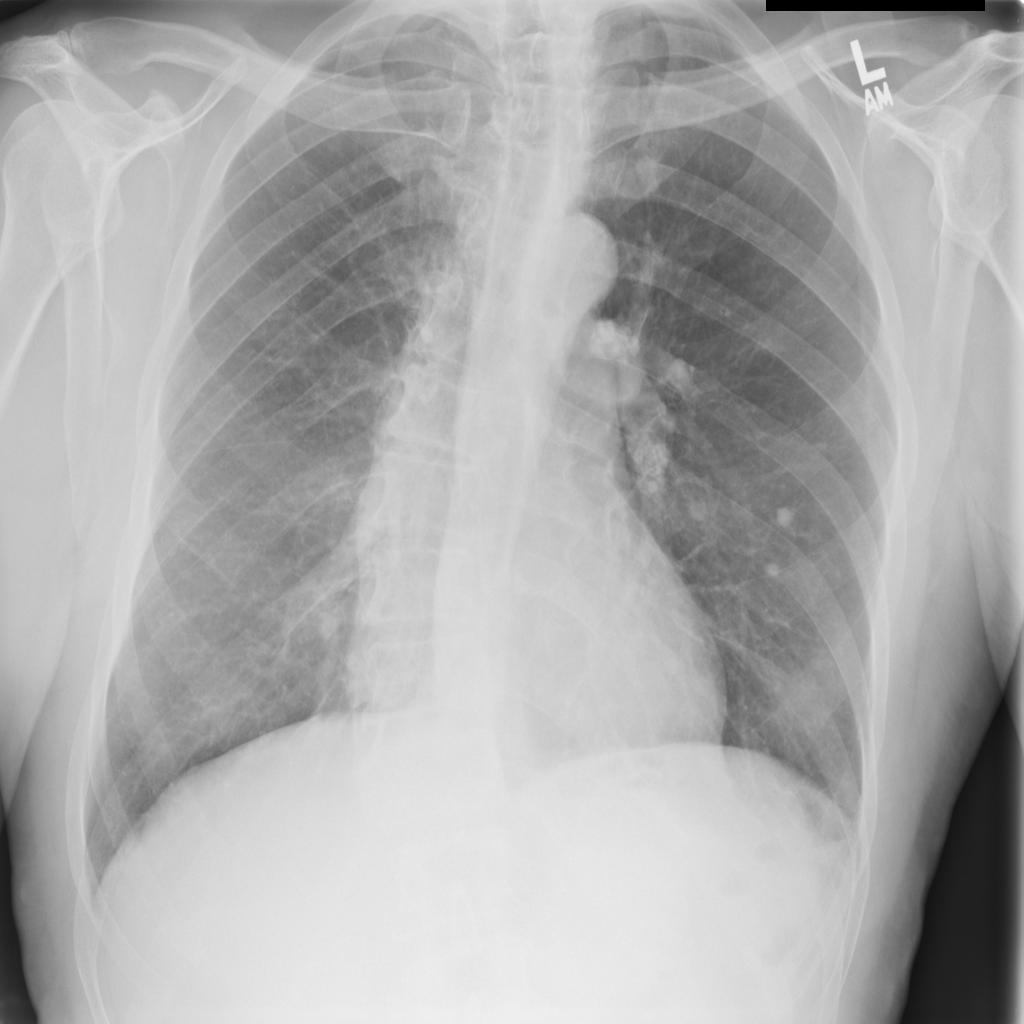nodule: (753, 648, 858, 761), (763, 488, 811, 539), (757, 551, 793, 590)
